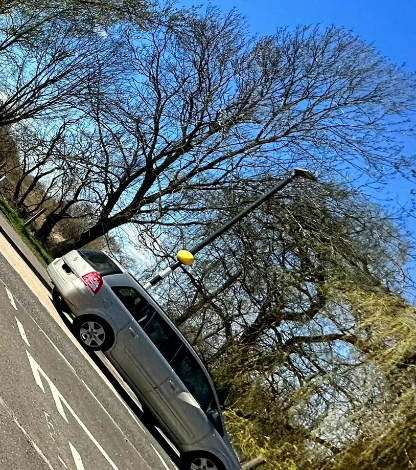car: (21, 234, 275, 470)
tree: (47, 29, 407, 257)
